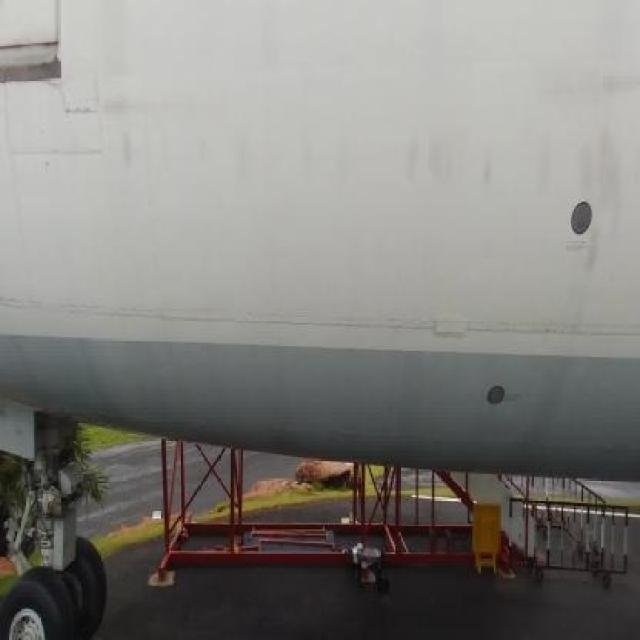Scartch: (402, 99, 628, 312), (288, 112, 369, 240), (188, 107, 260, 213), (110, 91, 152, 218)
